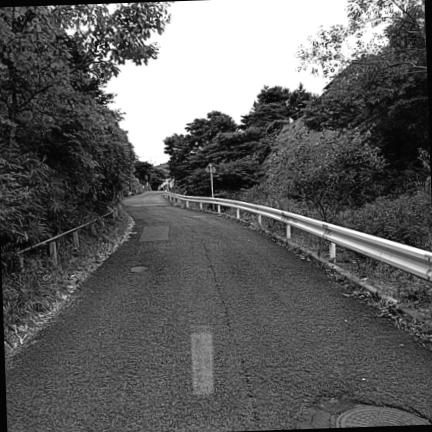Road: (5, 192, 431, 431)
